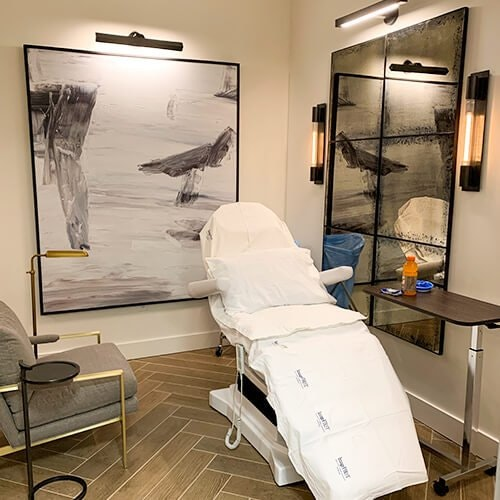exam_table: (184, 198, 433, 500)
overbed_table: (358, 276, 500, 500)
sofa: (1, 293, 142, 474)
waste_bin: (324, 233, 368, 309)
